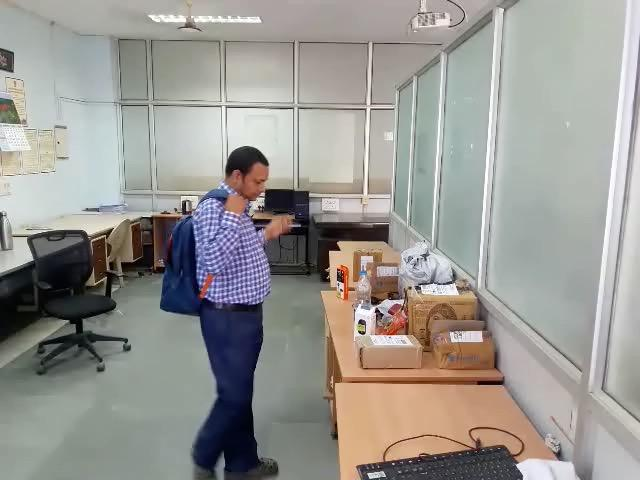Normal: (0, 90, 298, 480)
